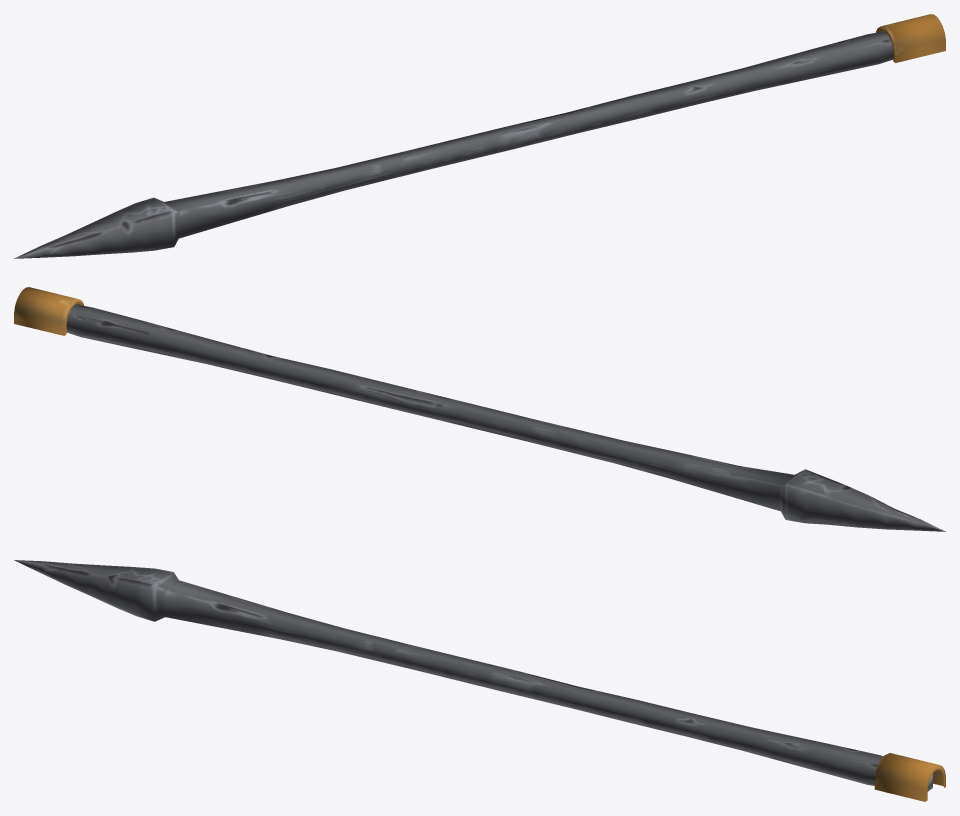
Rendered from arrow.fbx.
3 renders of one model, top to bottom at view 1: azimuth 30°, elevation 25°; view 2: azimuth 150°, elevation 25°; view 3: azimuth 330°, elevation 25°, orthographic.
Parts seen in each view (by area): view 1: 5_low, 17_low; view 2: 5_low, 17_low; view 3: 5_low, 17_low.
Part boxes in pixels (left/top/right/bottom): 5_low: left=14, top=31, right=893, bottom=258; 17_low: left=876, top=14, right=945, bottom=62; 5_low: left=66, top=304, right=945, bottom=531; 17_low: left=14, top=287, right=83, bottom=335; 5_low: left=14, top=560, right=932, bottom=791; 17_low: left=874, top=753, right=945, bottom=801.
Size of the model in its own units: 94.87 by 3.58 by 3.71.
1 material, 1 textured.
